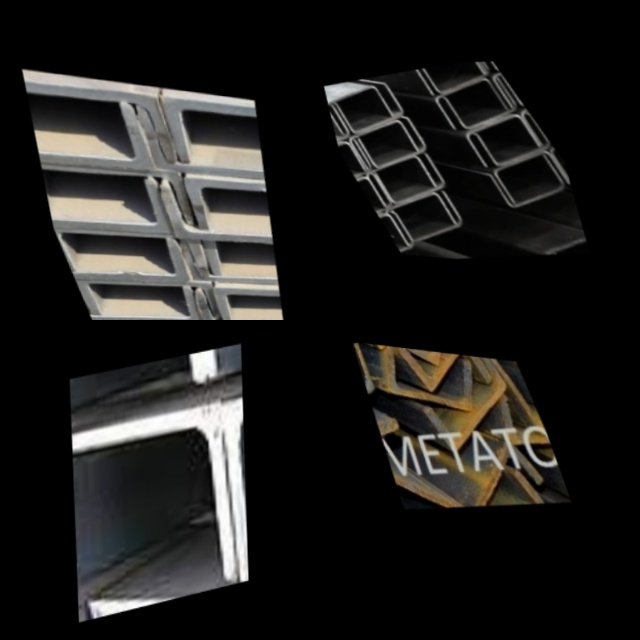Shveller: (408, 349, 533, 463), (24, 80, 173, 160), (27, 93, 150, 168), (41, 162, 192, 223), (380, 345, 492, 427), (141, 107, 268, 176), (43, 172, 170, 232), (98, 572, 249, 618), (169, 99, 267, 167), (55, 230, 206, 274), (56, 232, 186, 281), (165, 188, 277, 242), (401, 348, 507, 401), (479, 154, 578, 210), (383, 190, 476, 247), (483, 151, 577, 206), (455, 115, 552, 168), (466, 115, 564, 167), (79, 280, 218, 316), (365, 152, 457, 206), (425, 78, 519, 129), (437, 78, 531, 129), (358, 156, 447, 209), (376, 191, 465, 244), (190, 179, 275, 233), (348, 118, 438, 169), (341, 120, 429, 170), (77, 284, 199, 320), (352, 342, 399, 435), (327, 83, 414, 133), (183, 242, 282, 283), (494, 393, 555, 457), (324, 86, 402, 135), (228, 408, 249, 584), (207, 236, 280, 276), (414, 62, 495, 96), (422, 61, 502, 93), (354, 174, 401, 221), (200, 295, 286, 320), (407, 348, 491, 373), (337, 140, 382, 185), (218, 291, 286, 320)
